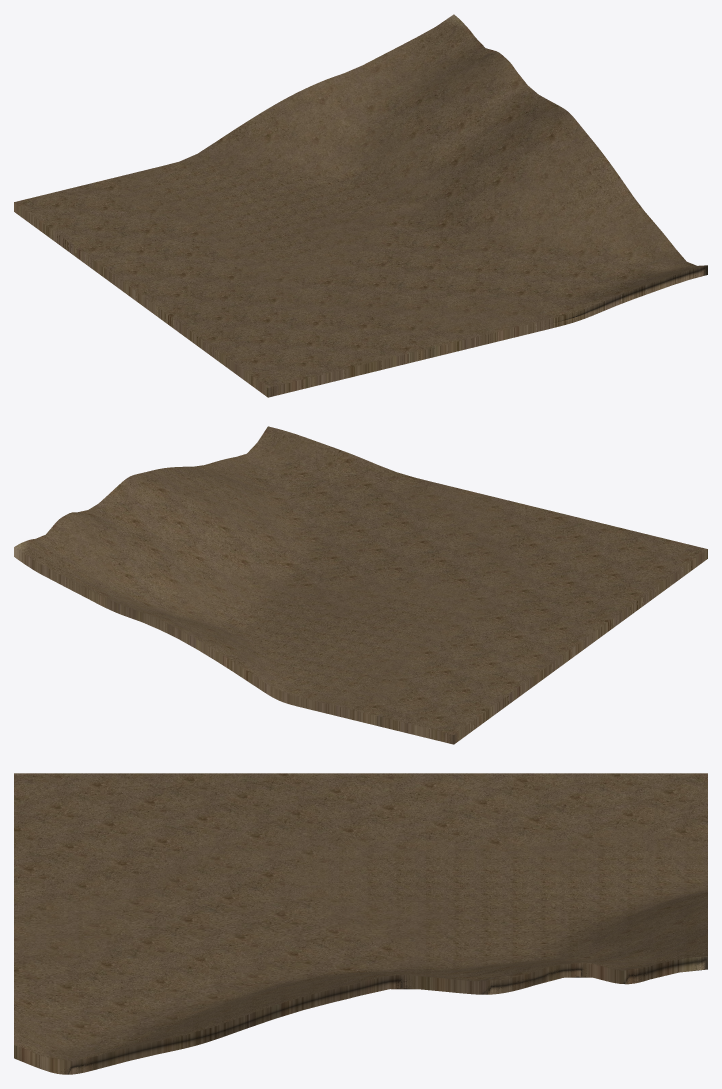
File: chunk_0_4.glb
The picture shows the model from 3 angles, top to bottom: view 1: azimuth 30°, elevation 25°; view 2: azimuth 150°, elevation 25°; view 3: azimuth 270°, elevation 25°; orthographic projection. The views are drawn at different scales.
Visible parts, largest first — view 1: Terrain_L0, Terrain_L2, Terrain_L1; view 2: Terrain_L0, Terrain_L2, Terrain_L1; view 3: Terrain_L0, Terrain_L2, Terrain_L1.
Part boxes in pixels (x1,y1,x2,y2): Terrain_L0: (14,14,707,397); Terrain_L2: (14,14,707,397); Terrain_L1: (14,14,707,396); Terrain_L0: (14,426,707,744); Terrain_L2: (14,427,707,743); Terrain_L1: (14,429,707,743); Terrain_L0: (14,773,707,1074); Terrain_L2: (14,773,707,1074); Terrain_L1: (14,773,707,1074).
Bounding box in the file's own units: 96 × 18.8 × 96.
1 material, 1 textured.
